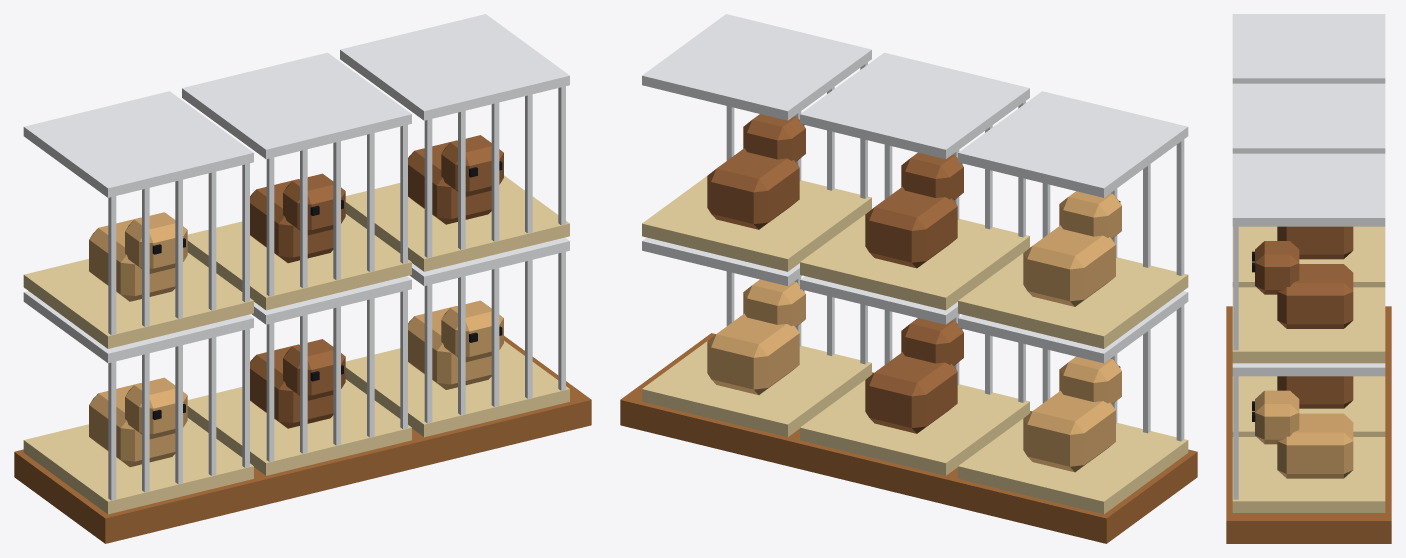
Rendered from PetCages.fbx.
3 renders of one model, left to right at view 1: azimuth 30°, elevation 25°; view 2: azimuth 150°, elevation 25°; view 3: azimuth 270°, elevation 25°, orthographic. The views are drawn at different scales.
Visible parts, largest first — view 1: PetCages; view 2: PetCages; view 3: PetCages.
Part boxes in pixels (<box>): PetCages: <box>14,14,591,543</box>; PetCages: <box>620,14,1197,543</box>; PetCages: <box>1226,14,1391,543</box>.
Size of the model in its own units: 8 by 5.52 by 2.6.
Materials: 1 (1 with a texture image).
